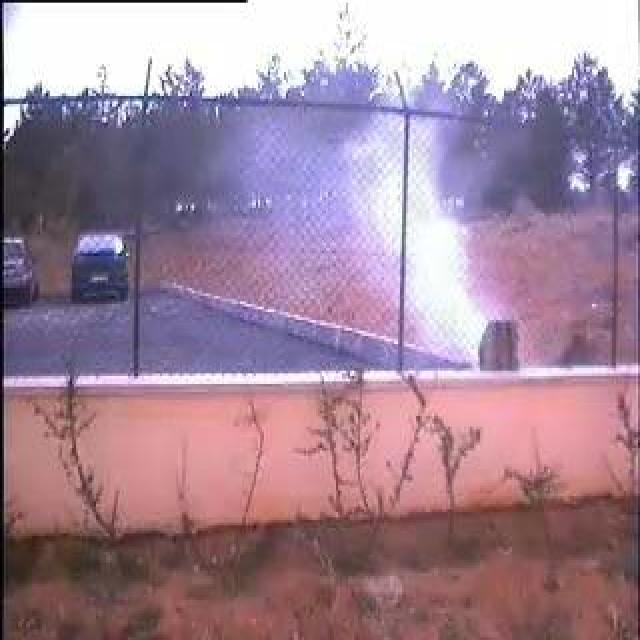Smoke: (350, 112, 496, 376)
